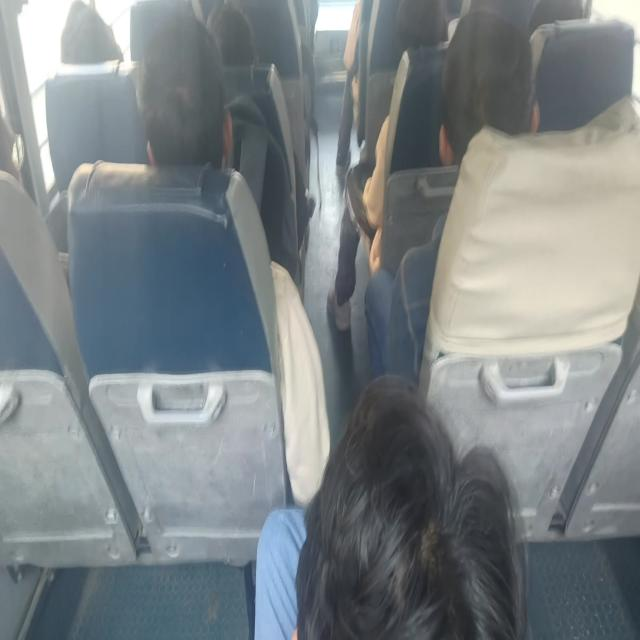person: (271, 387, 533, 640), (442, 18, 540, 178), (143, 34, 235, 170), (196, 0, 263, 72), (56, 0, 126, 68), (0, 83, 35, 193), (398, 0, 450, 62)
